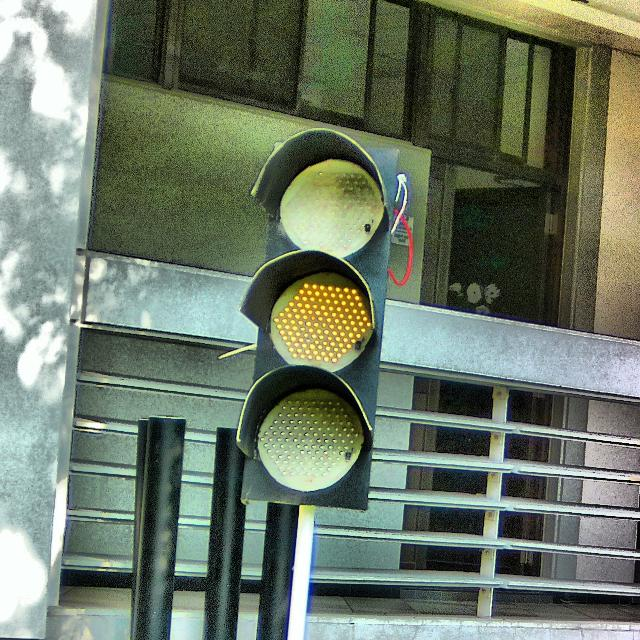yellow: (241, 140, 397, 500)
